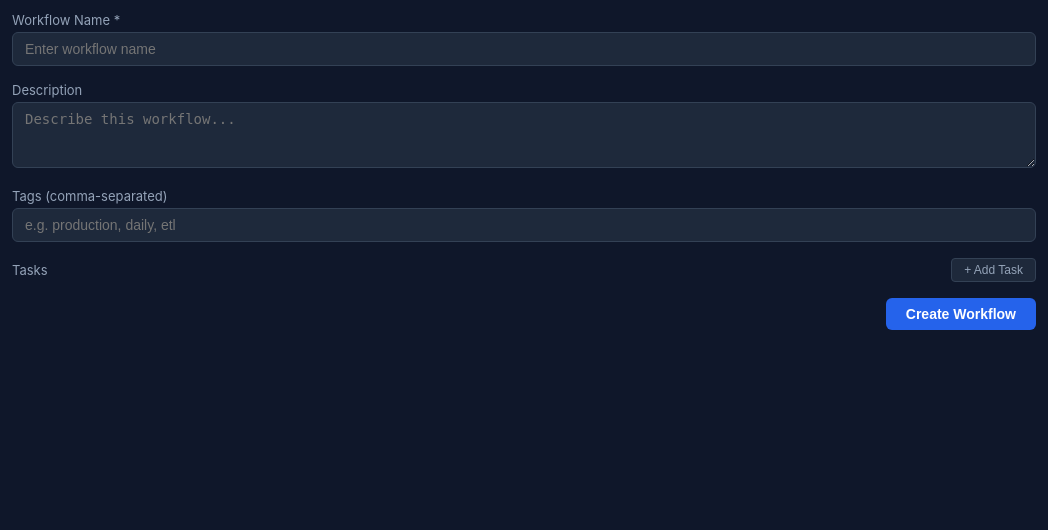
Test: WorkflowForm › shows task validation error for empty task name
Type "WF" into the field with test id "workflow-name-input" at (524, 49), box [12,32,1036,66]
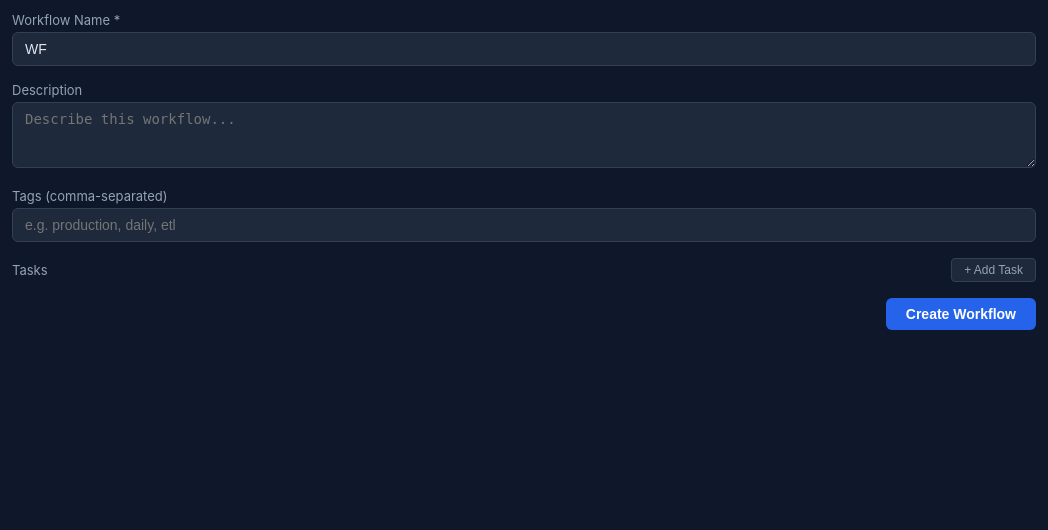
Click the button with test id "add-task-button" at (994, 270), box [951,258,1036,282]
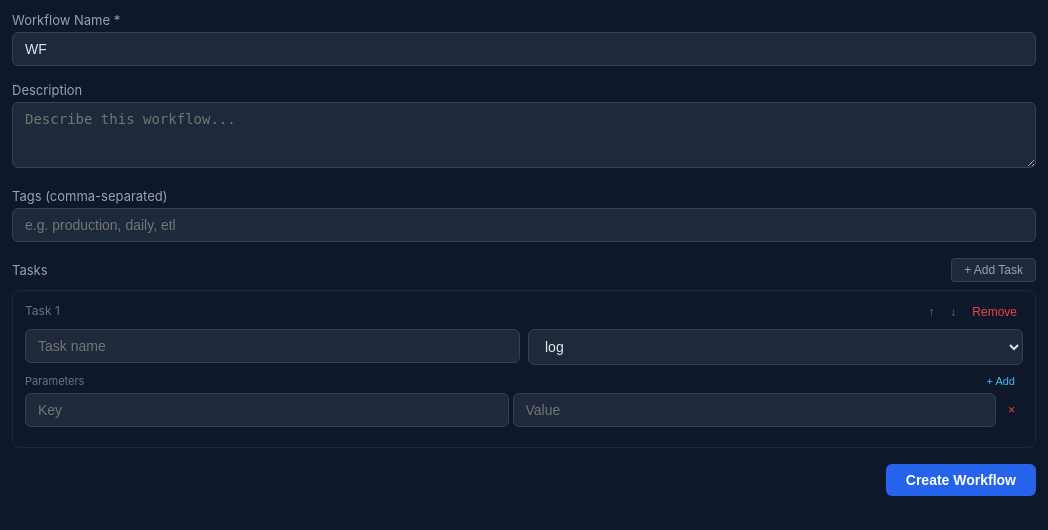
Click the button with test id "submit-button" at (961, 480), box [886,464,1036,496]
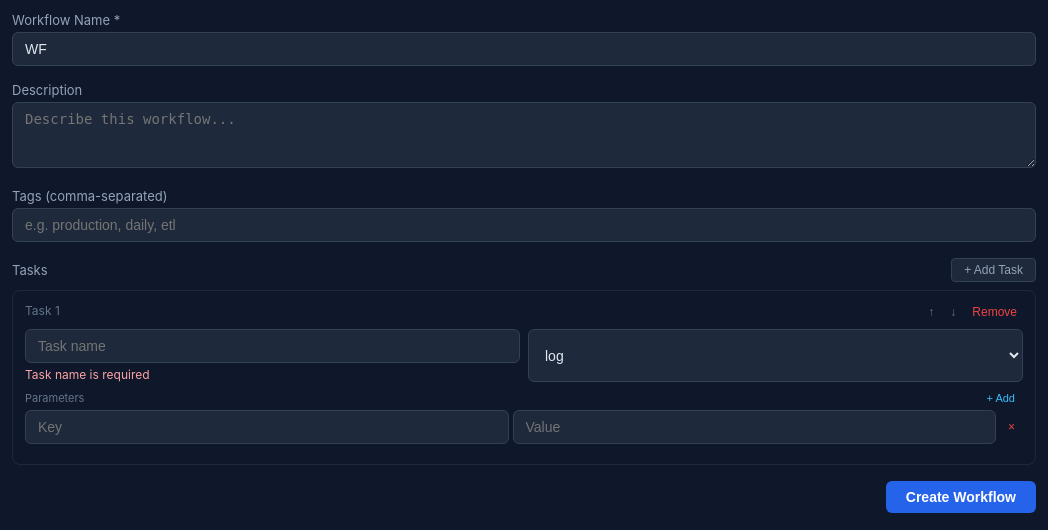
Expected: the text "Task name is required" is shown, [25,367,150,382]
